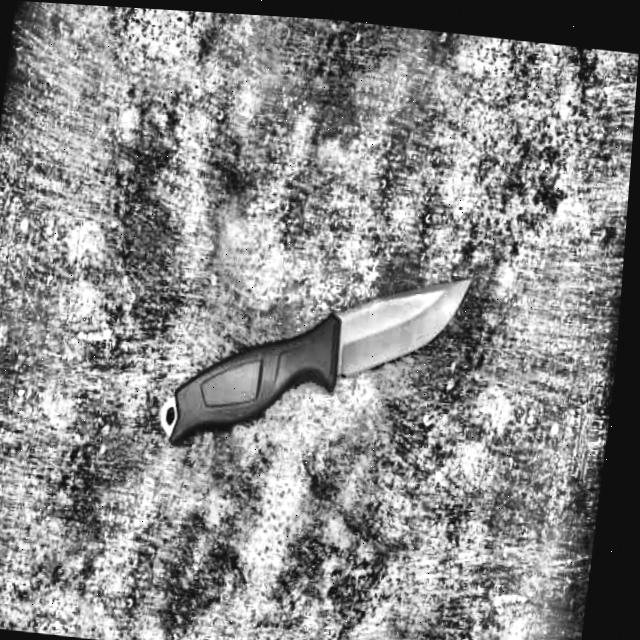pisau: (149, 232, 483, 489)
